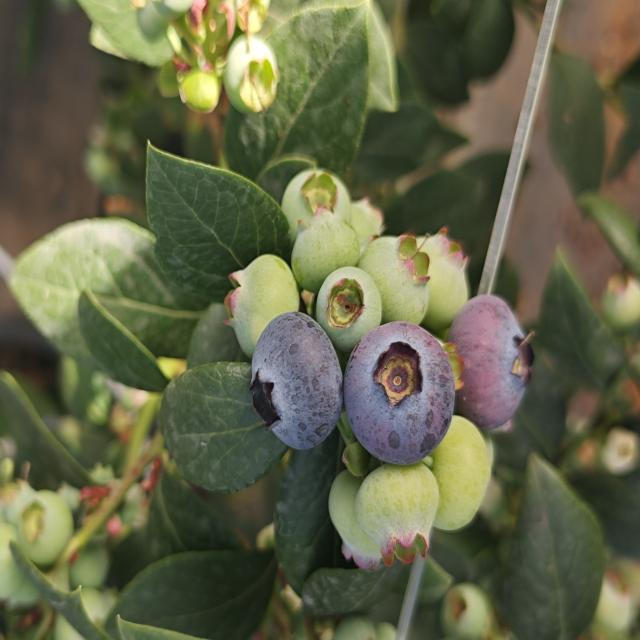ripe: (342, 319, 457, 467), (247, 309, 345, 454), (444, 292, 536, 433)
